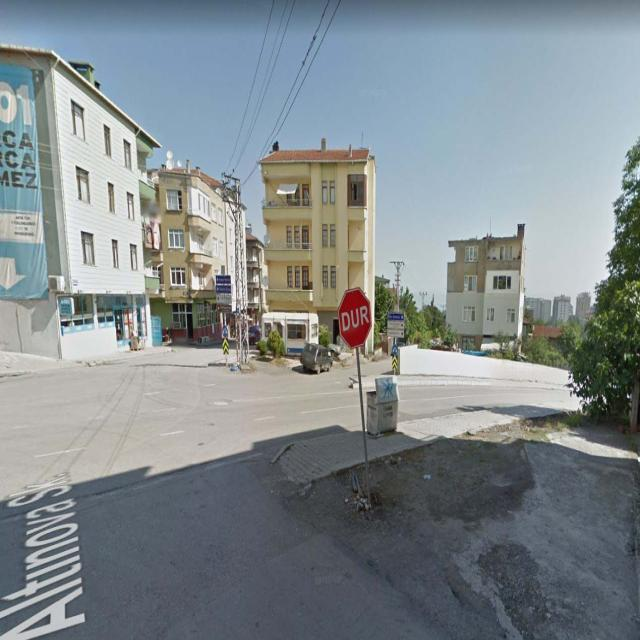dur: (337, 287, 372, 350)
